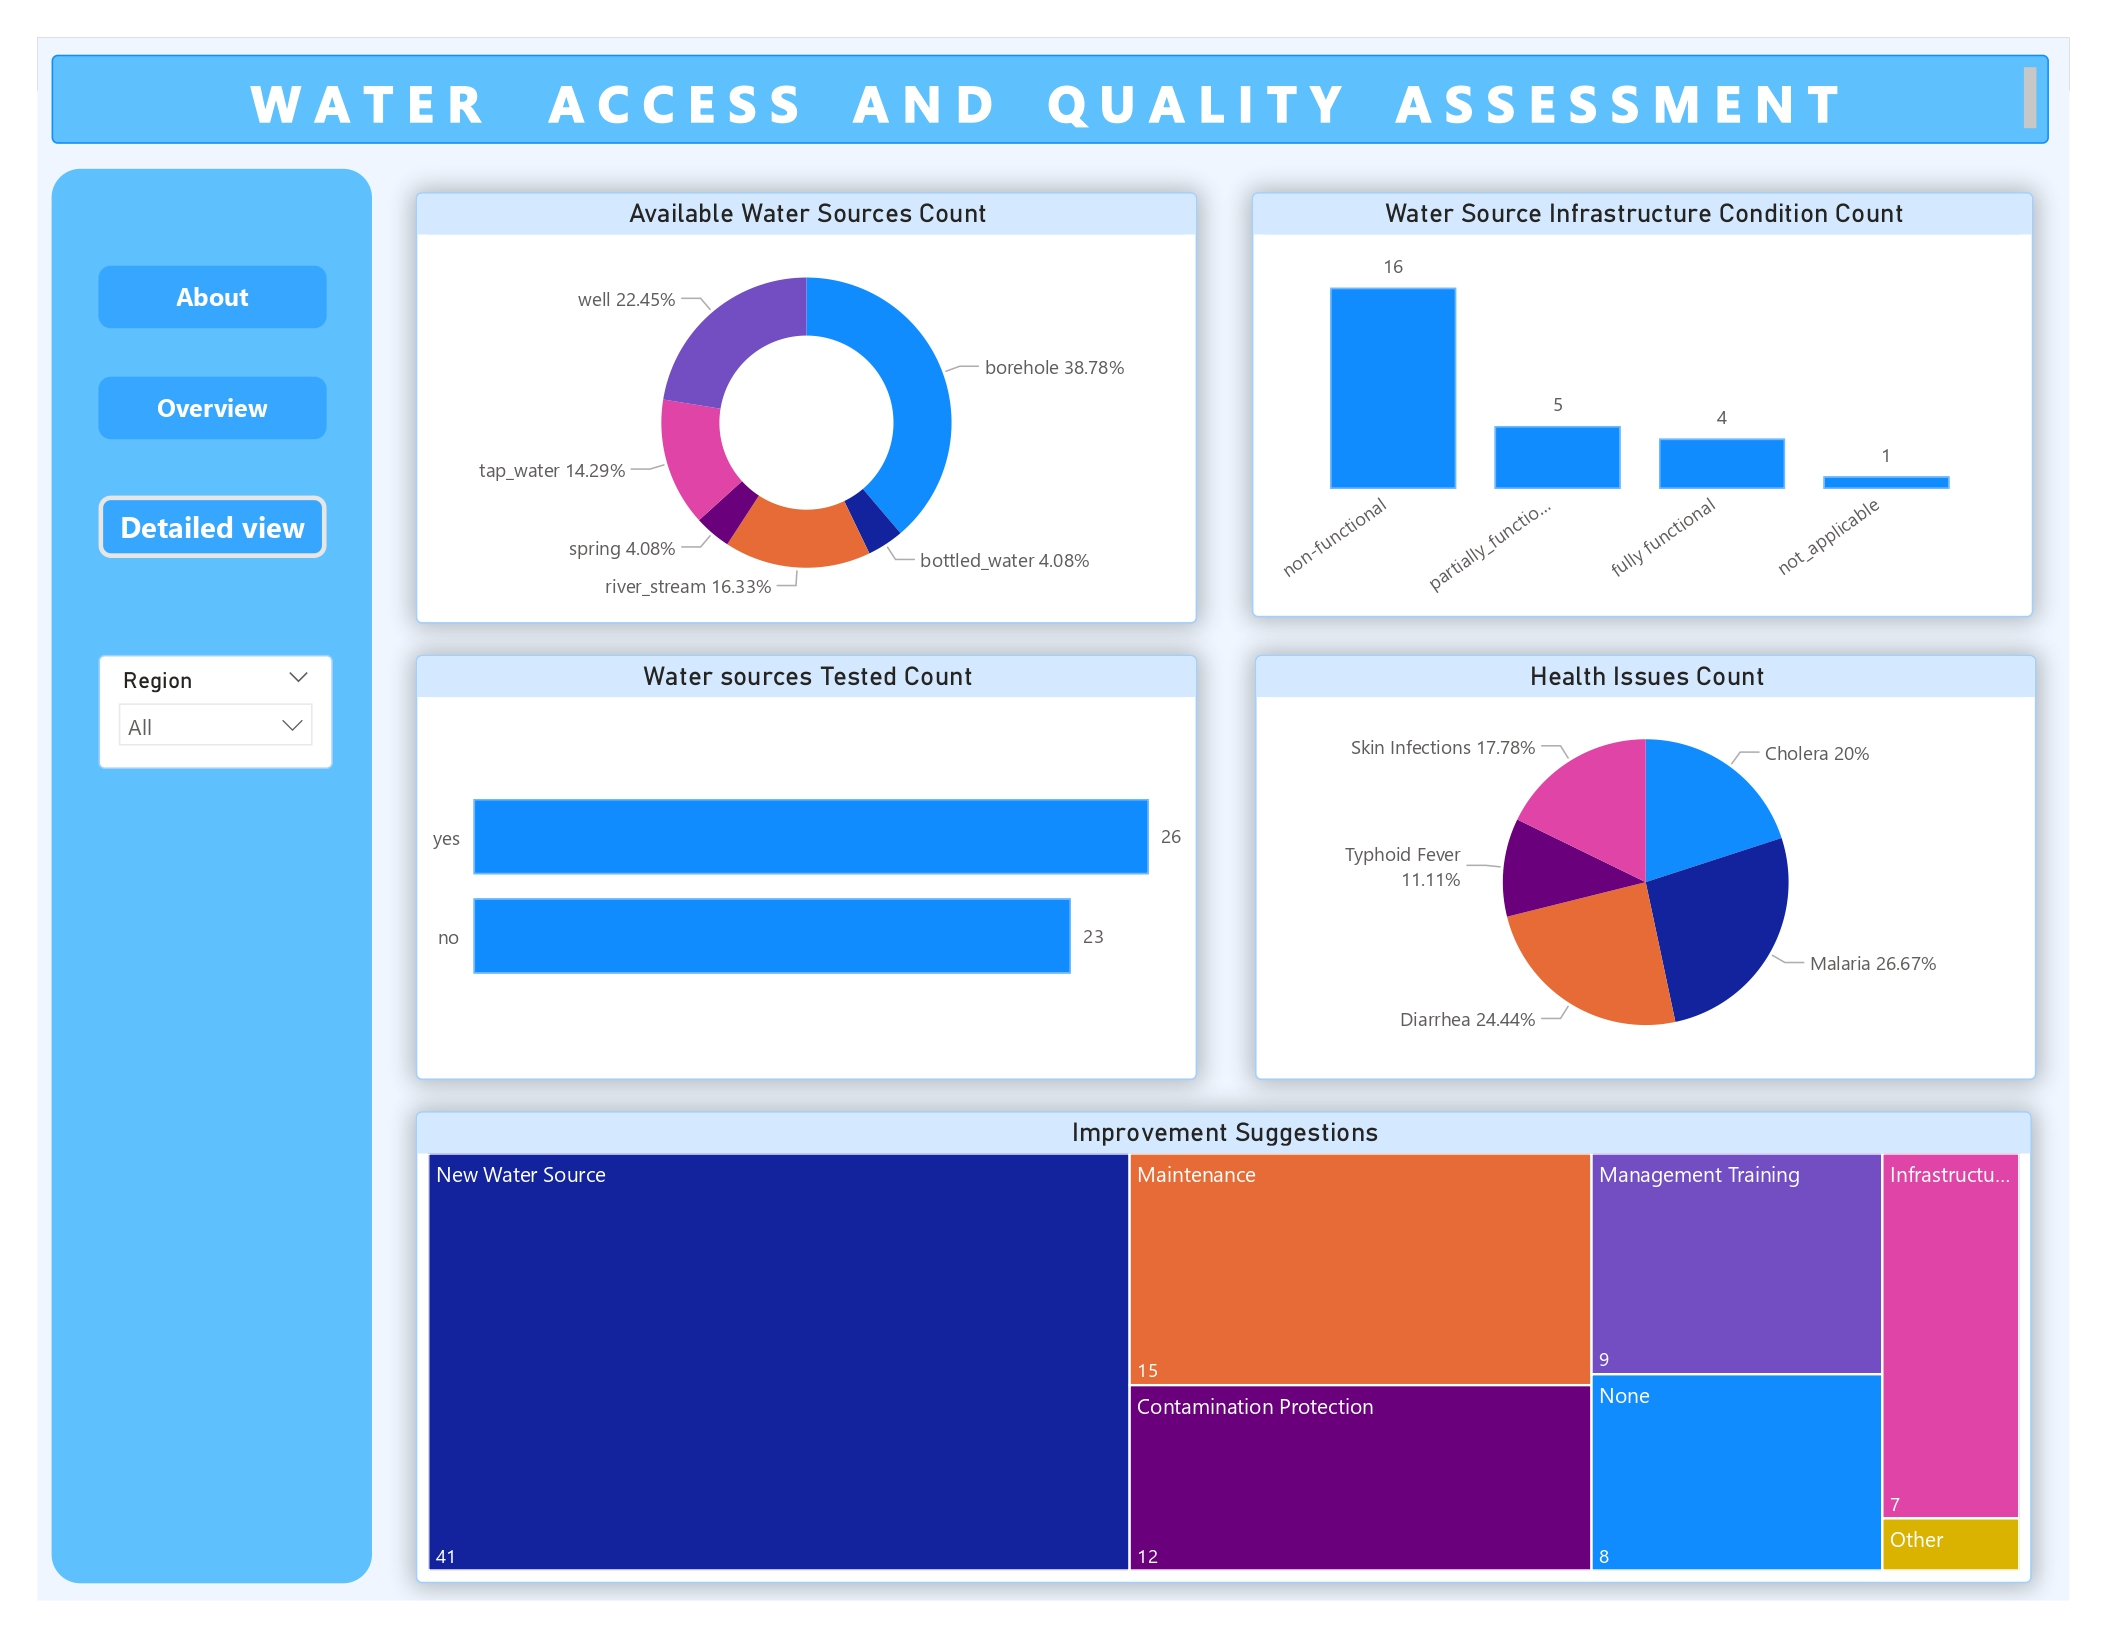

What the dashboard file says about the page in this screenshot:
{"tool":"powerbi","page":{"name":"Detailed View","canvas":[1300,1000],"ordinal":2},"visuals":[{"type":"textbox","box":[9.3,10.9,1277.9,57.4],"z":0},{"type":"shape","box":[9.3,83.7,204.7,905.7],"z":1000},{"type":"actionButton","box":[38.8,145.8,145.8,40.3],"z":2000},{"type":"actionButton","box":[38.8,217.1,145.8,40.3],"z":3000},{"type":"actionButton","box":[38.8,293.1,145.8,40.3],"z":4000},{"type":"donutChart","title":"Available Water Sources Count","fields":{"Y":["CountNonNull(?format=json.begin_group_XWd56z4Et/type_of_water_source)"],"Series":["?format=json.begin_group_XWd56z4Et/type_of_water_source"]},"box":[241.9,99.3,500,276.1],"z":5000},{"type":"pieChart","title":"Health Issues Count","fields":{"Y":["?format=json.CholeraCount","?format=json.MalariaCount","?format=json.DiarrheaCount","?format=json.TyphoidFeverCount","?format=json.SkinInfectionsCount","?format=json.IntestinalWormsCount"]},"box":[778.5,395.5,500,271.4],"z":6000},{"type":"slicer","fields":{"Values":["?format=json.section_1/region"]},"box":[38.8,395.5,150.4,72.9],"z":7000},{"type":"treemap","title":"Improvement Suggestions","fields":{"Values":["?format=json.No Maintenance Needed","?format=json.New Water Source Needed","?format=json.Maintenance","?format=json.Protection from contamination","?format=json.Water Quality Improvement","?format=json.Infrastructure Repairs","?format=json.Community Training on Management","?format=json.Other"]},"box":[241.9,687,1034.4,302.4],"z":8000},{"type":"clusteredBarChart","title":"Water sources Tested Count","fields":{"Category":["?format=json.begin_group_yukPlpiaB/water_has_tests"],"Y":["CountNonNull(?format=json.begin_group_yukPlpiaB/water_has_tests)"]},"box":[241.9,395.5,500,271.4],"z":9000},{"type":"clusteredColumnChart","title":"Water Source Infrastructure Condition Count","fields":{"Category":["?format=json.begin_group_g5tzRh4Yk/water_source_condition"],"Y":["CountNonNull(?format=json.begin_group_yukPlpiaB/water_status)"]},"box":[777,99.3,500,271.4],"z":10000}]}

Visuals, with their boxes on the page's 1300x1000 design canvas (x1, y1, x2, y2). These are canvas units, not pixel positions in the 2107x1638 screenshot, which may show the page scaled, cropped or inside an application window:
textbox: locate(9, 11, 1287, 68)
shape: locate(9, 84, 214, 989)
actionButton: locate(39, 146, 185, 186)
actionButton: locate(39, 217, 185, 257)
actionButton: locate(39, 293, 185, 333)
"Available Water Sources Count" donutChart: locate(242, 99, 742, 375)
"Health Issues Count" pieChart: locate(778, 396, 1278, 667)
slicer - ?format=json.section_1/region: locate(39, 396, 189, 468)
"Improvement Suggestions" treemap: locate(242, 687, 1276, 989)
"Water sources Tested Count" clusteredBarChart: locate(242, 396, 742, 667)
"Water Source Infrastructure Condition Count" clusteredColumnChart: locate(777, 99, 1277, 371)
